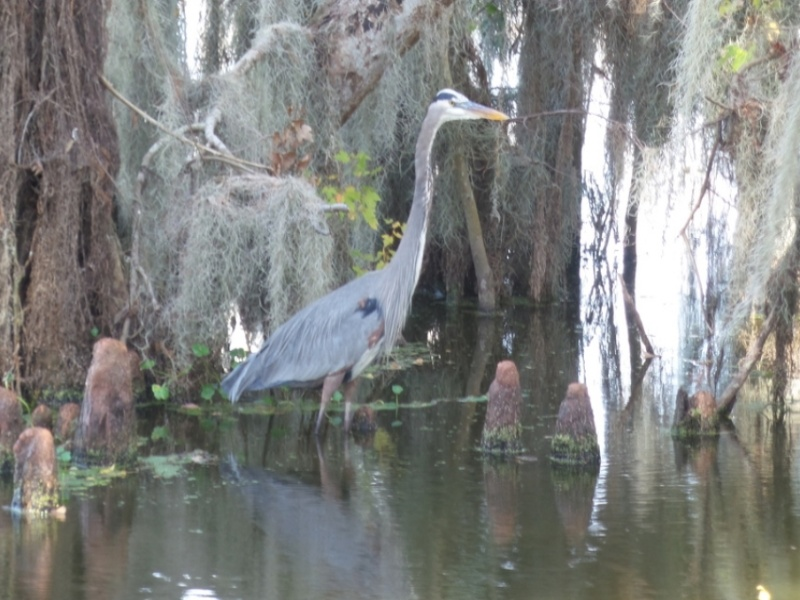heron: (219, 87, 508, 428)
